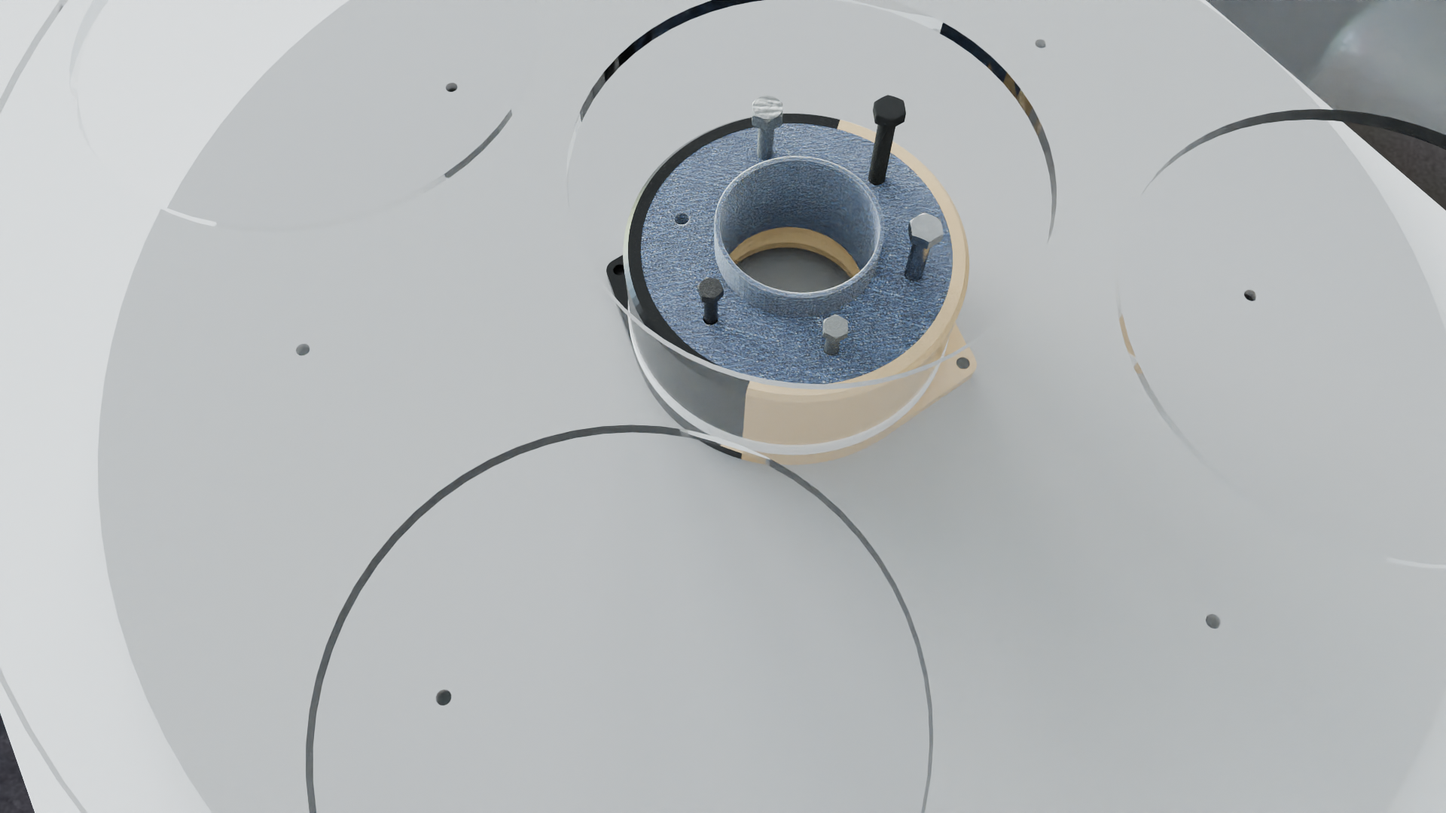bolt: (910, 213, 944, 242), (874, 95, 906, 121), (752, 96, 782, 123), (697, 277, 724, 299), (824, 315, 848, 339)
